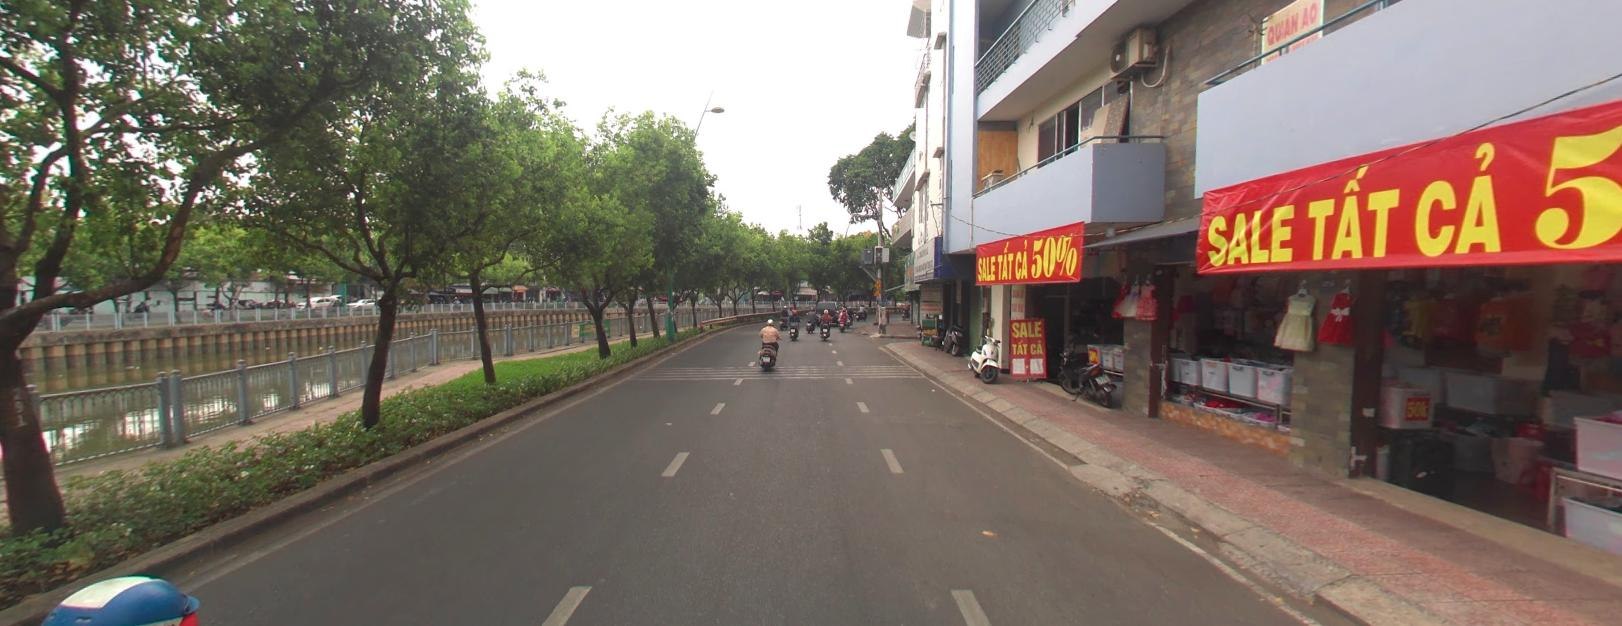Nguy hiem: (873, 287, 882, 295), (873, 278, 882, 286)
